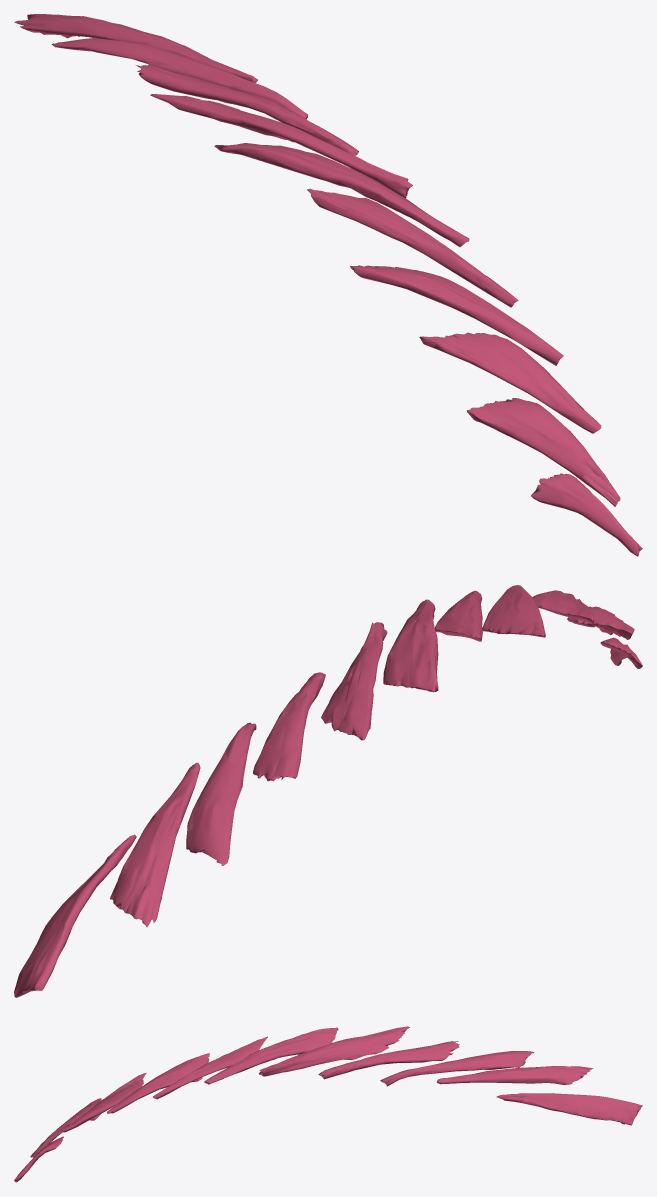
3 renders of one model, top to bottom at view 1: azimuth 30°, elevation 25°; view 2: azimuth 150°, elevation 25°; view 3: azimuth 270°, elevation 25°, orthographic. The views are drawn at different scales.
Visible parts, largest first — view 1: 右侧肋长提肌; view 2: 右侧肋长提肌; view 3: 右侧肋长提肌.
Part boxes in pixels (left/top/right/bottom): 右侧肋长提肌: left=14, top=14, right=642, bottom=556; 右侧肋长提肌: left=14, top=585, right=642, bottom=997; 右侧肋长提肌: left=14, top=1026, right=642, bottom=1182.
Size of the model in its own units: 0.0696 by 0.1068 by 0.486.
